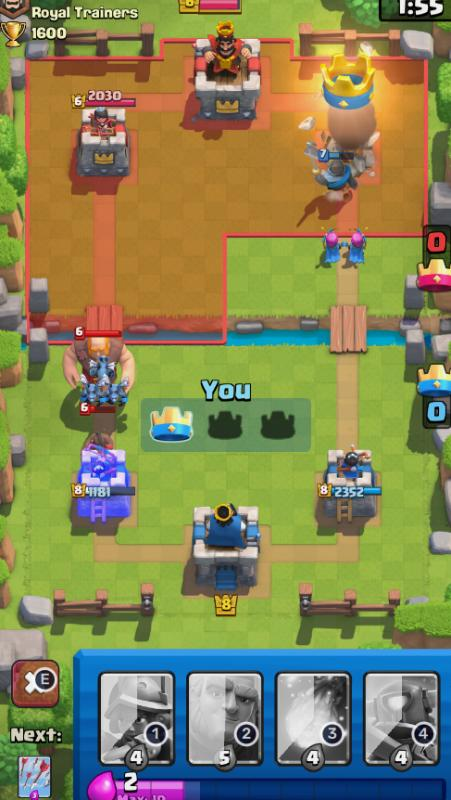archere: (339, 228, 375, 268), (321, 225, 339, 263)
chevalier: (308, 149, 370, 207)
gargouille: (102, 376, 131, 409), (74, 384, 103, 413), (87, 357, 119, 383)
geant: (58, 335, 140, 400)
